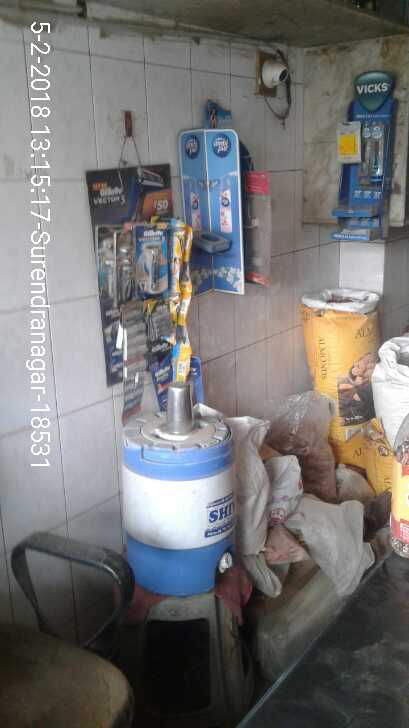reject: (111, 215, 174, 300)
